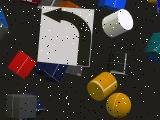Left: (37, 6, 94, 67)
